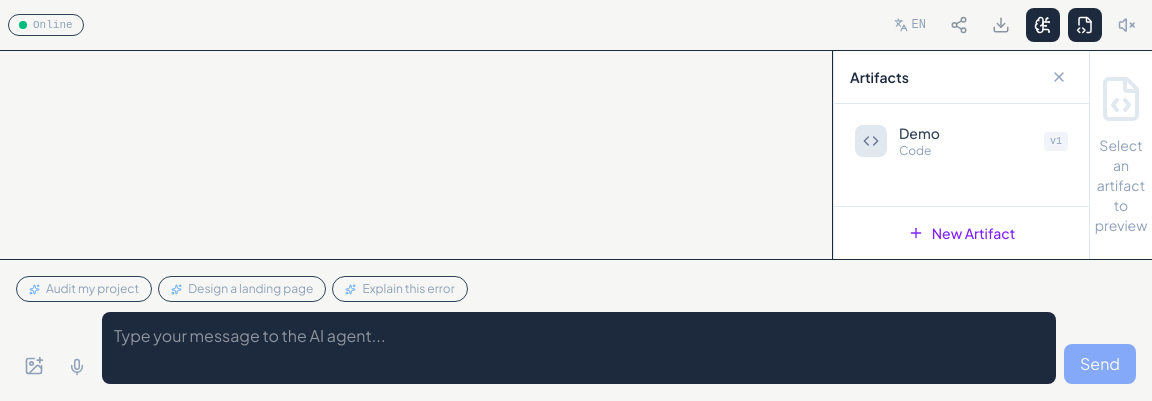
Test: ChatInterface Tier-S wiring contract (M10) › mounts and unmounts the S3 ArtifactsPanel via toolbar toggle
This screenshot has width=1152, height=401.
Expected: the element with test id "artifacts-panel-container" is shown, [832,51,1151,259]
Expected: the text "Demo" is shown, [899,124,940,142]
Click the button titled "Toggle artifacts panel": point(1085, 25) [1068,8,1102,42]
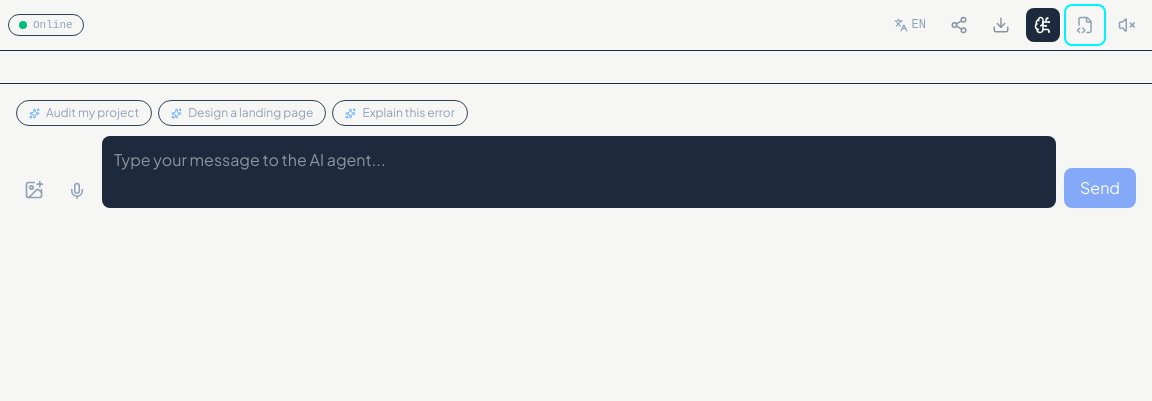
Now the element with test id "artifacts-panel-container" is gone
